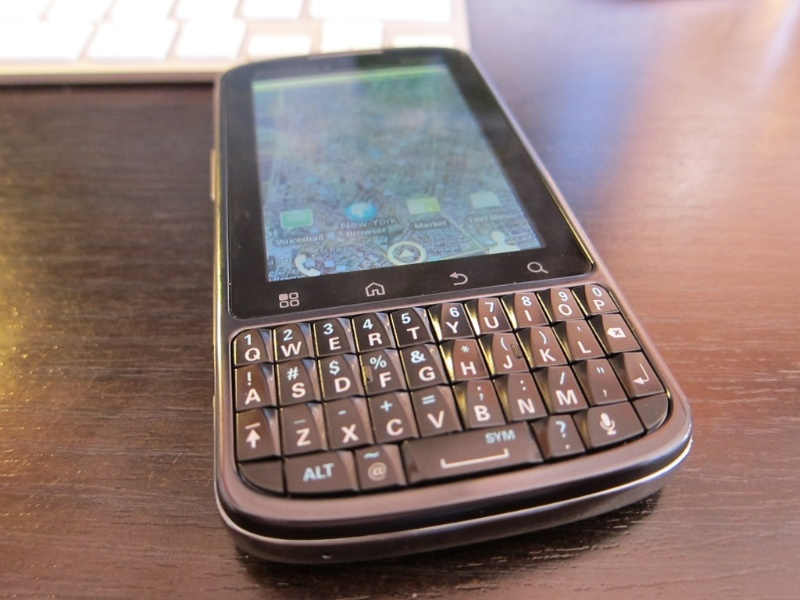cellphone: (205, 40, 697, 572)
